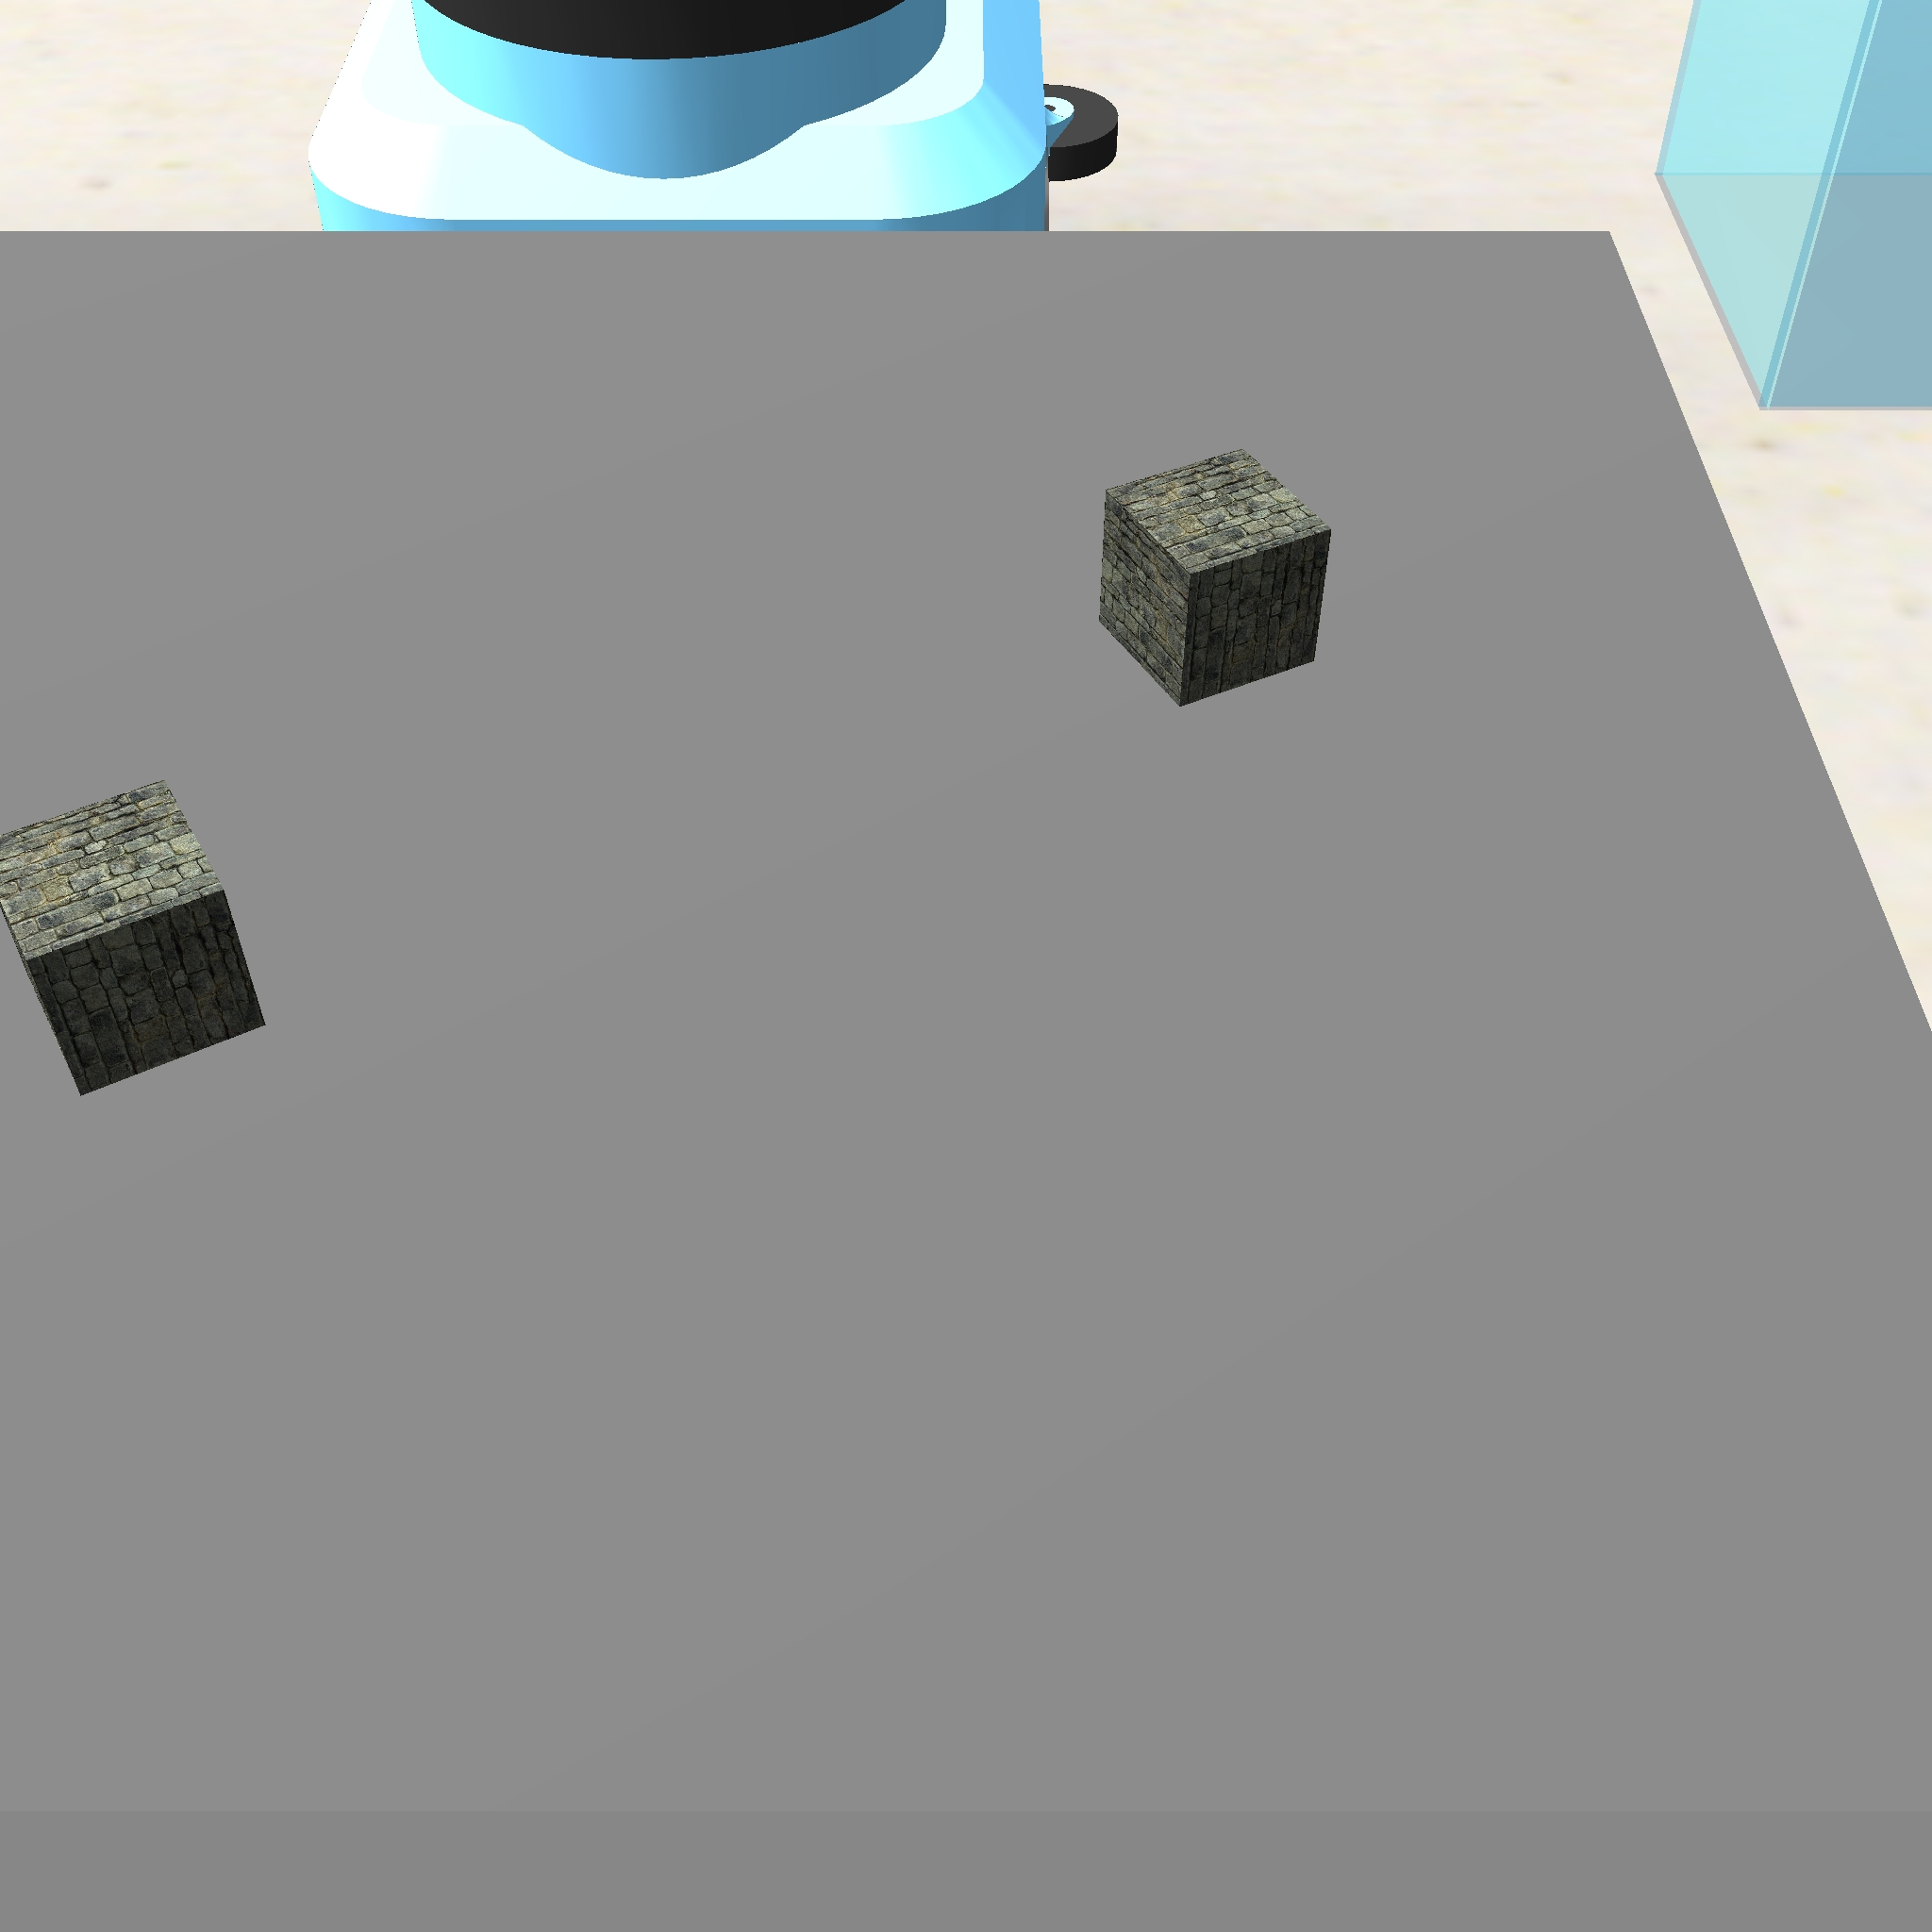cube: (0, 771, 272, 1104), (1090, 442, 1339, 715)
